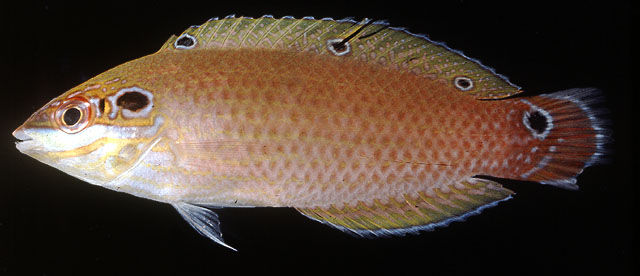fish: (12, 11, 610, 252)
